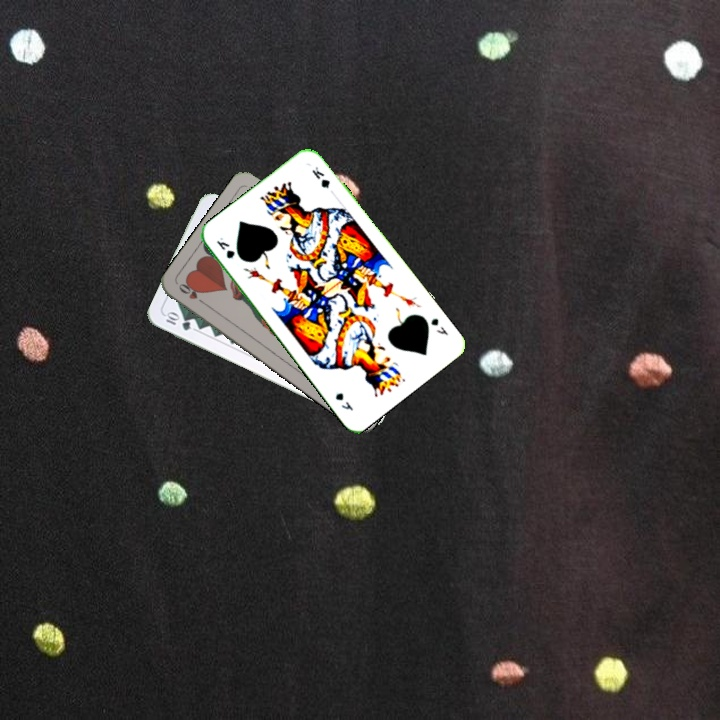G10: (161, 308, 193, 333)
GK: (212, 236, 237, 261), (426, 314, 451, 338)
HO: (174, 279, 210, 308)
